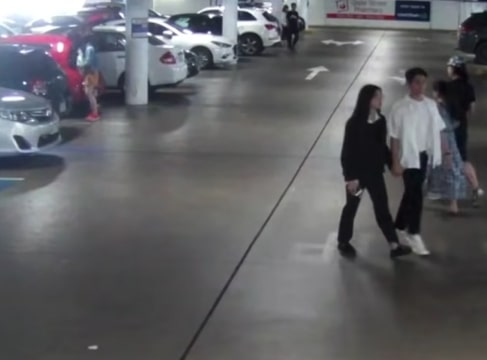person: (329, 80, 404, 261), (380, 65, 449, 252), (422, 49, 470, 214), (69, 34, 117, 117), (273, 1, 317, 55)
